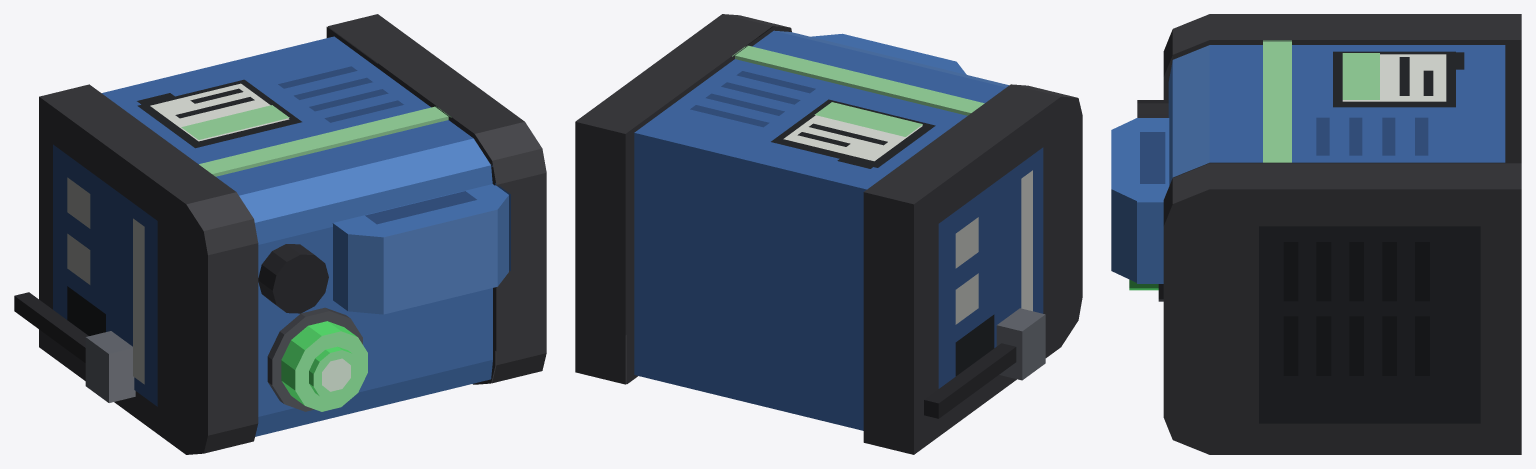
The model's file is backup_ground_valutech_on_N.obj.
3 views of the same model, side by side, from view 1: azimuth 30°, elevation 25°; view 2: azimuth 150°, elevation 25°; view 3: azimuth 270°, elevation 25° (orthographic). The views are drawn at different scales.
Parts seen in each view (by area): view 1: backup_ground_valutech_on_N; view 2: backup_ground_valutech_on_N; view 3: backup_ground_valutech_on_N.
Boxes of the visible parts, x1,y1,x2,y2 form: backup_ground_valutech_on_N: [14, 14, 546, 454]; backup_ground_valutech_on_N: [575, 14, 1082, 454]; backup_ground_valutech_on_N: [1111, 14, 1521, 454].
Bounding box in the file's own units: 0.561 × 0.357 × 0.5.
Materials: 1 (1 with a texture image).
